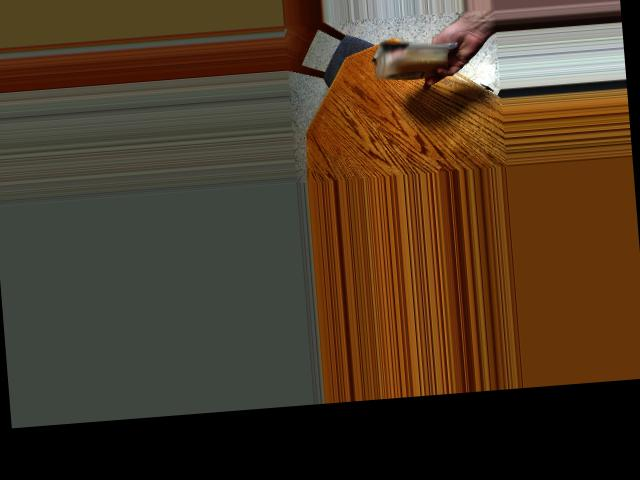cheese: (373, 30, 452, 91)
